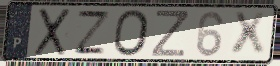6: (194, 9, 225, 59)
O: (112, 8, 151, 58)
X: (32, 6, 73, 57), (230, 10, 268, 59)
Z: (150, 9, 190, 59), (71, 9, 113, 56)
